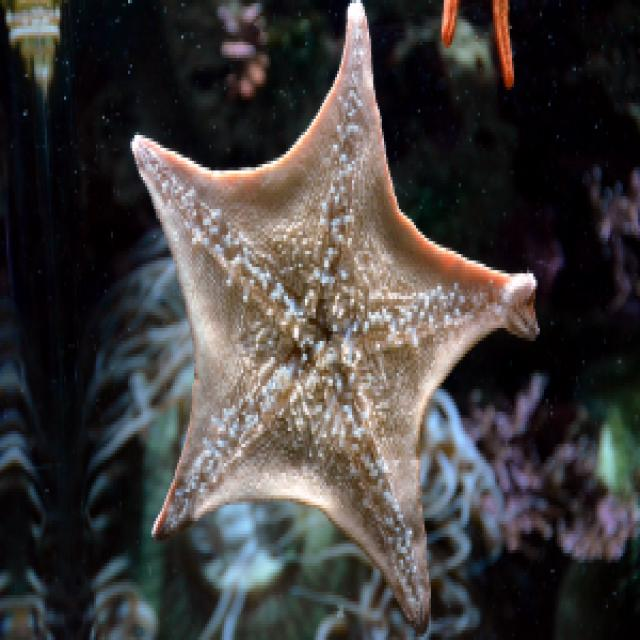Starfish: (129, 0, 536, 640)
